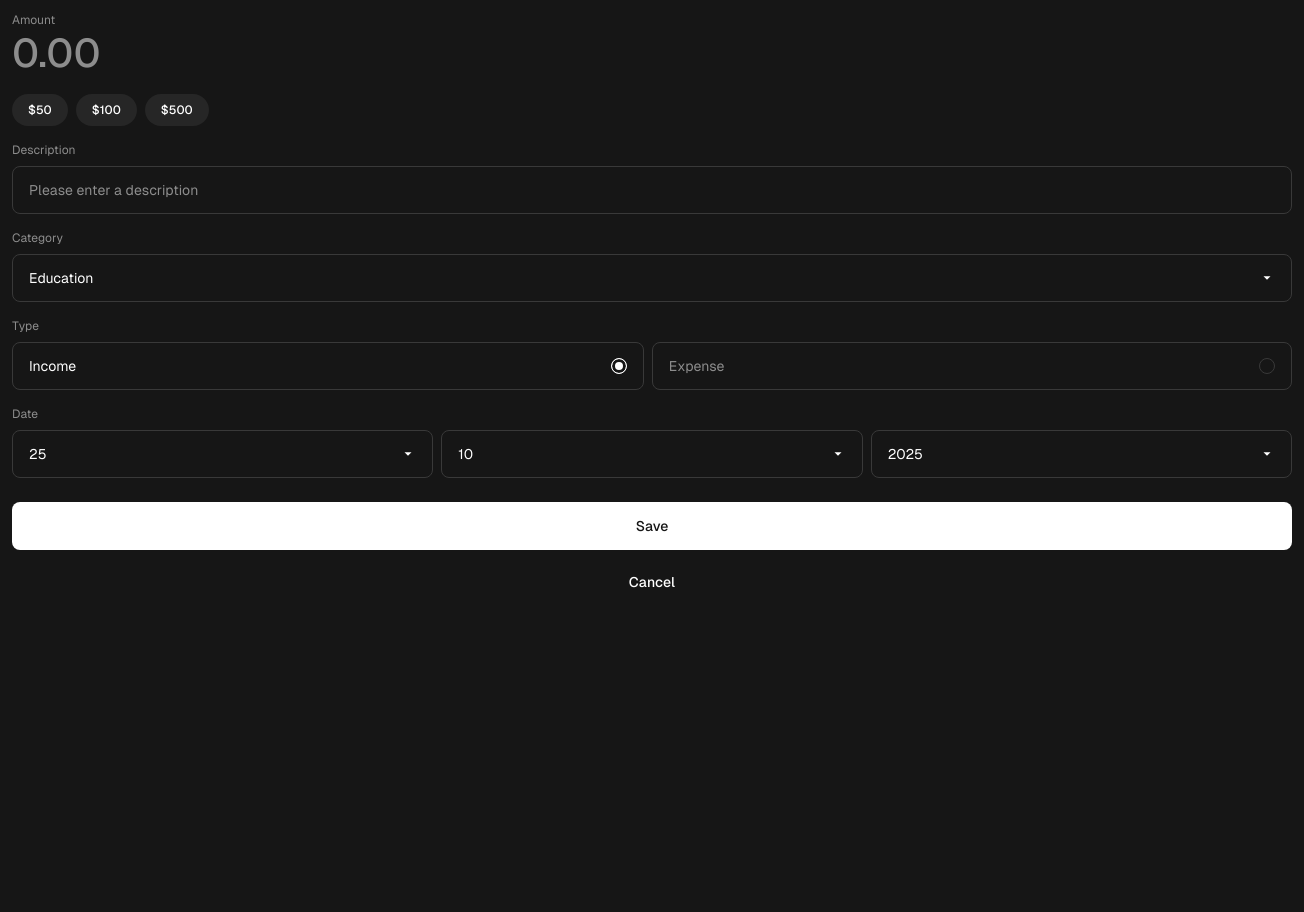
Test: Form submission is blocked if any required field is empty, and validation messages clearly indicate the incomplete fields › Render error messages
Click the button "Save" at (652, 526), box [12,502,1292,550]
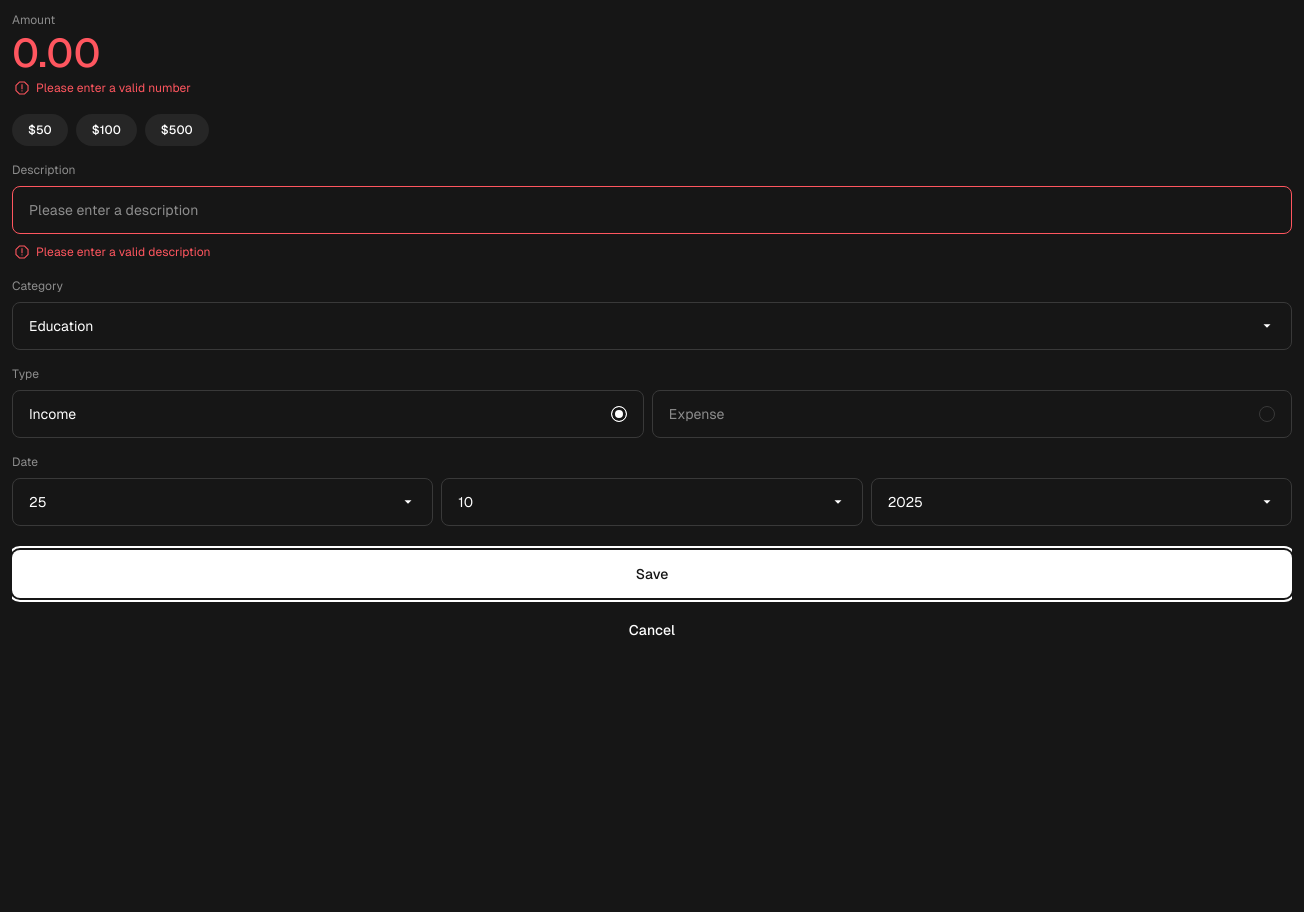
Expected: the message "Please enter a valid description" is shown, [12,242,210,262]
Expected: the message "Please enter a valid number" is shown, [12,78,191,98]
